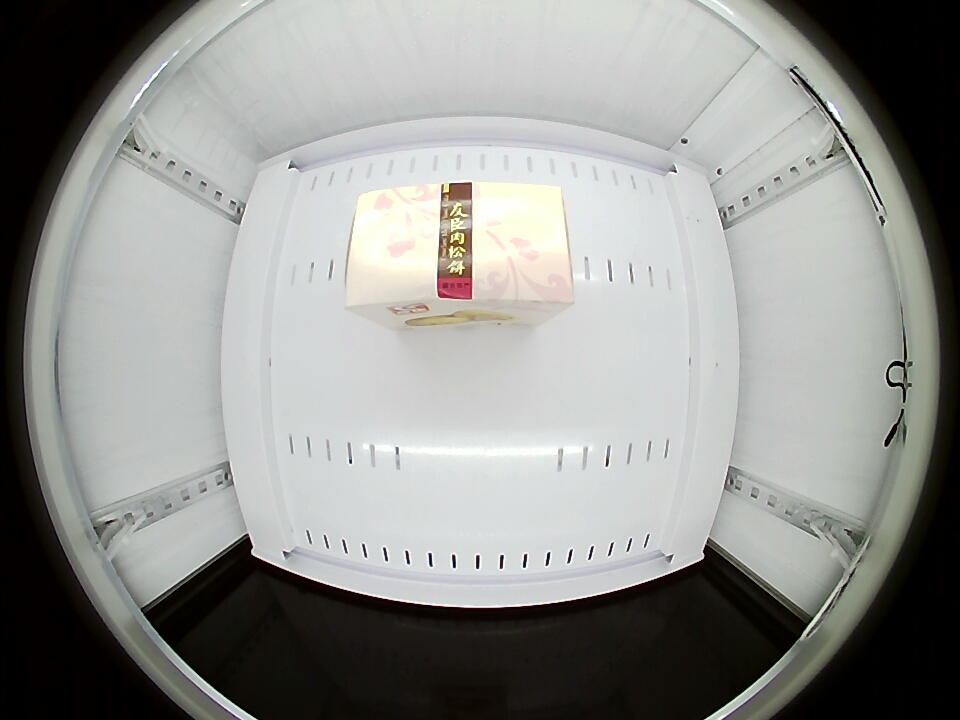rousongbing: (343, 181, 576, 321)
